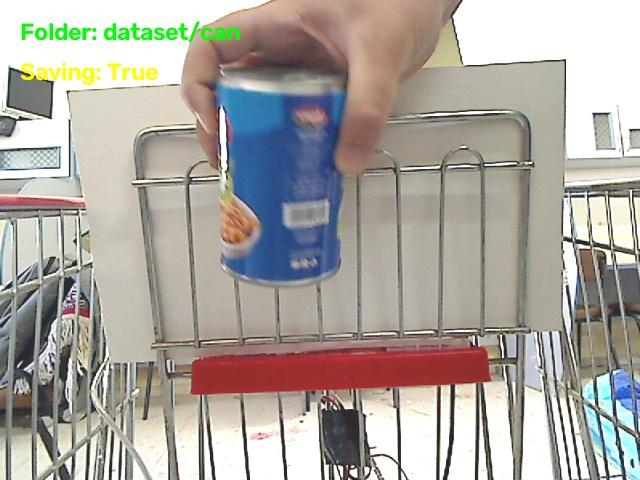can: (216, 67, 345, 286)
